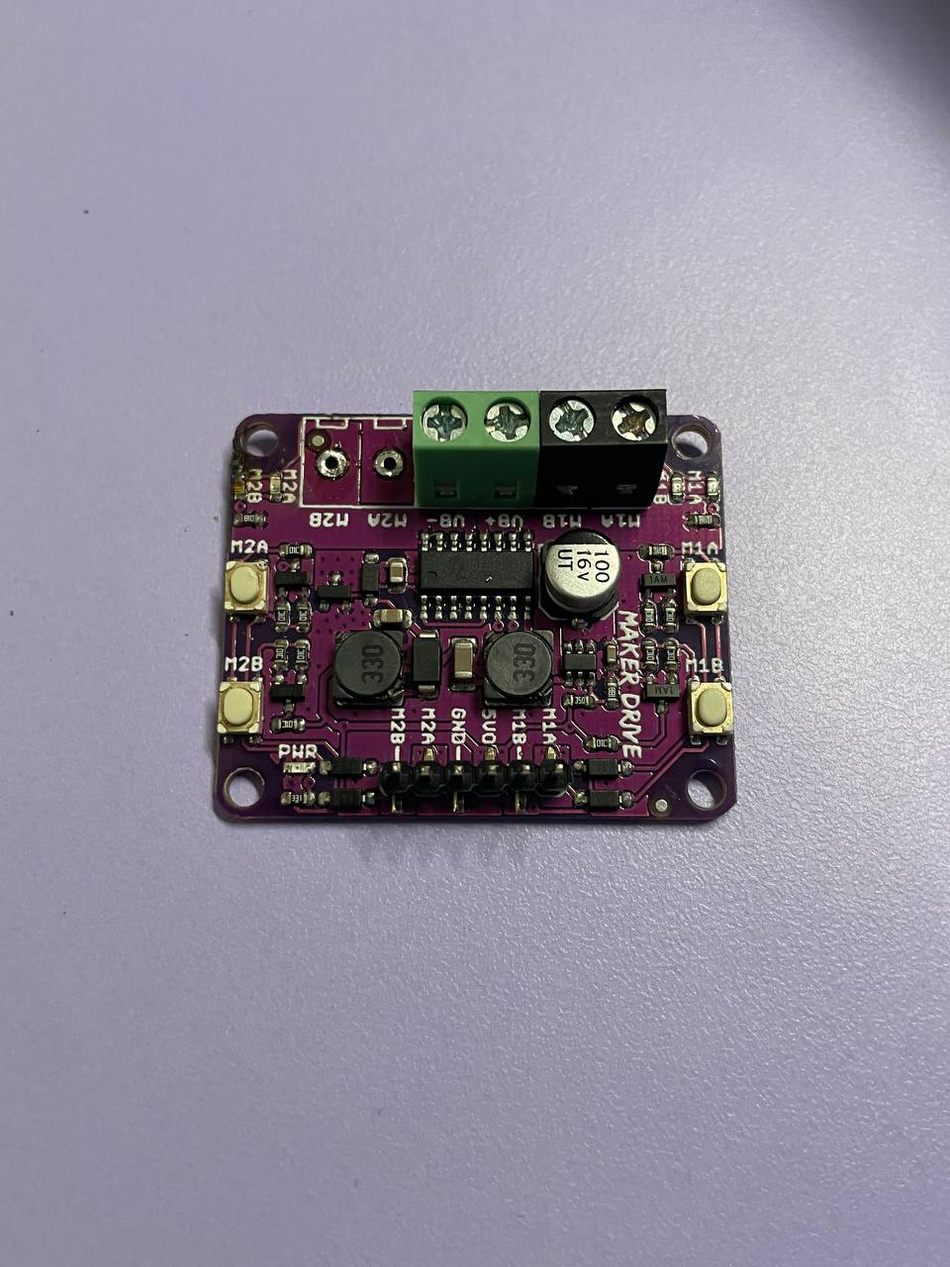missing_tb: (298, 414, 416, 526)
